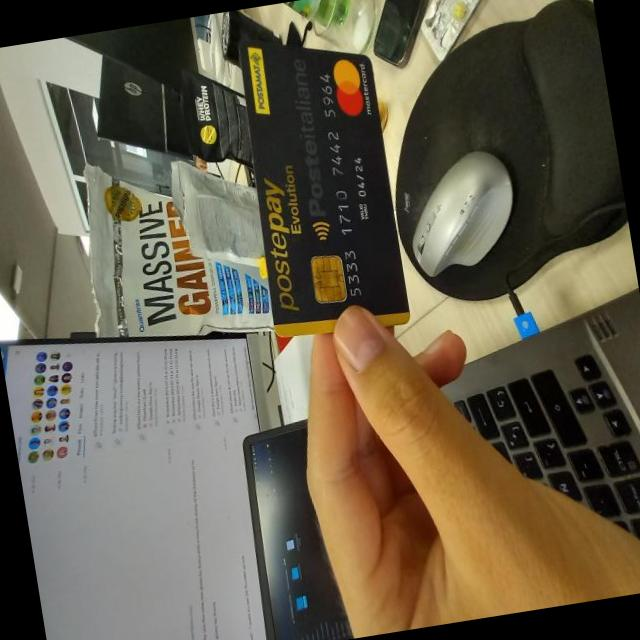card: (228, 24, 417, 340)
